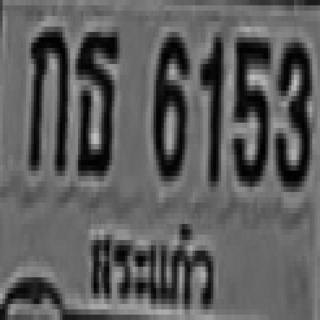A01: (26, 24, 65, 168)
A24: (75, 27, 117, 171)
N01: (198, 32, 221, 181)
N03: (273, 37, 310, 181)
N05: (232, 32, 268, 181)
N06: (151, 27, 187, 176)
P55: (87, 211, 220, 317)
